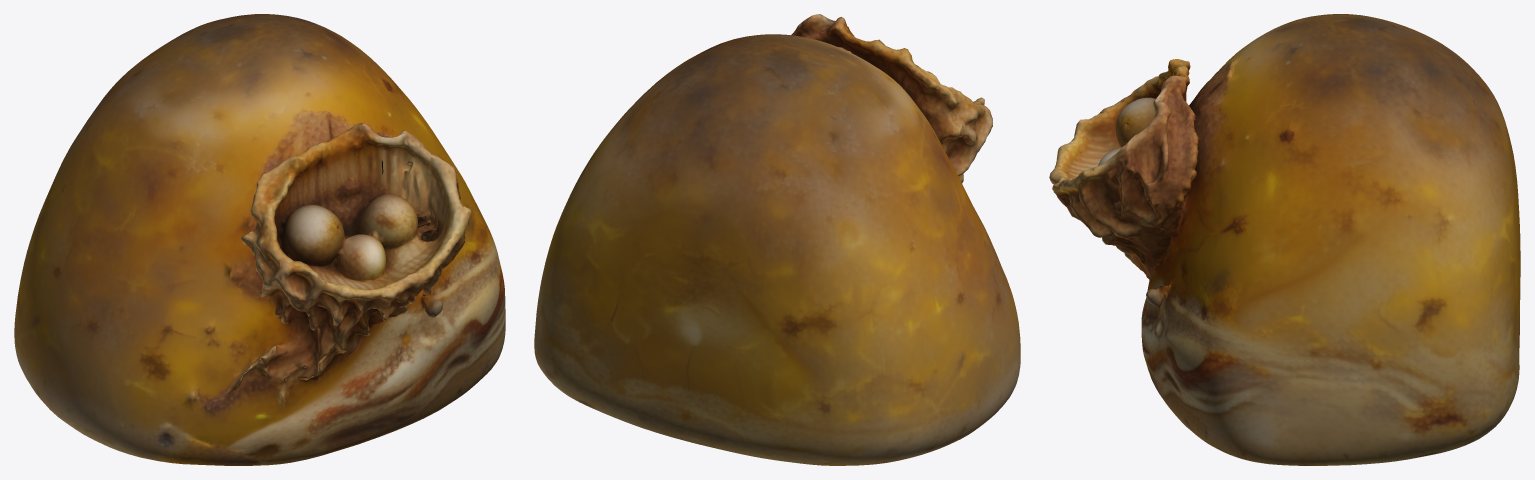
3 renders of one model, left to right at view 1: azimuth 30°, elevation 25°; view 2: azimuth 150°, elevation 25°; view 3: azimuth 270°, elevation 25°, orthographic.
Parts seen in each view (by area): view 1: geometry_0; view 2: geometry_0; view 3: geometry_0.
Boxes of the visible parts, bbox=[...] form: geometry_0: bbox=[14, 14, 505, 465]; geometry_0: bbox=[534, 14, 1020, 465]; geometry_0: bbox=[1049, 14, 1520, 465].
Size of the model in its own units: 0.035 by 0.0298 by 0.0344.
Materials: 1 (1 with a texture image).
